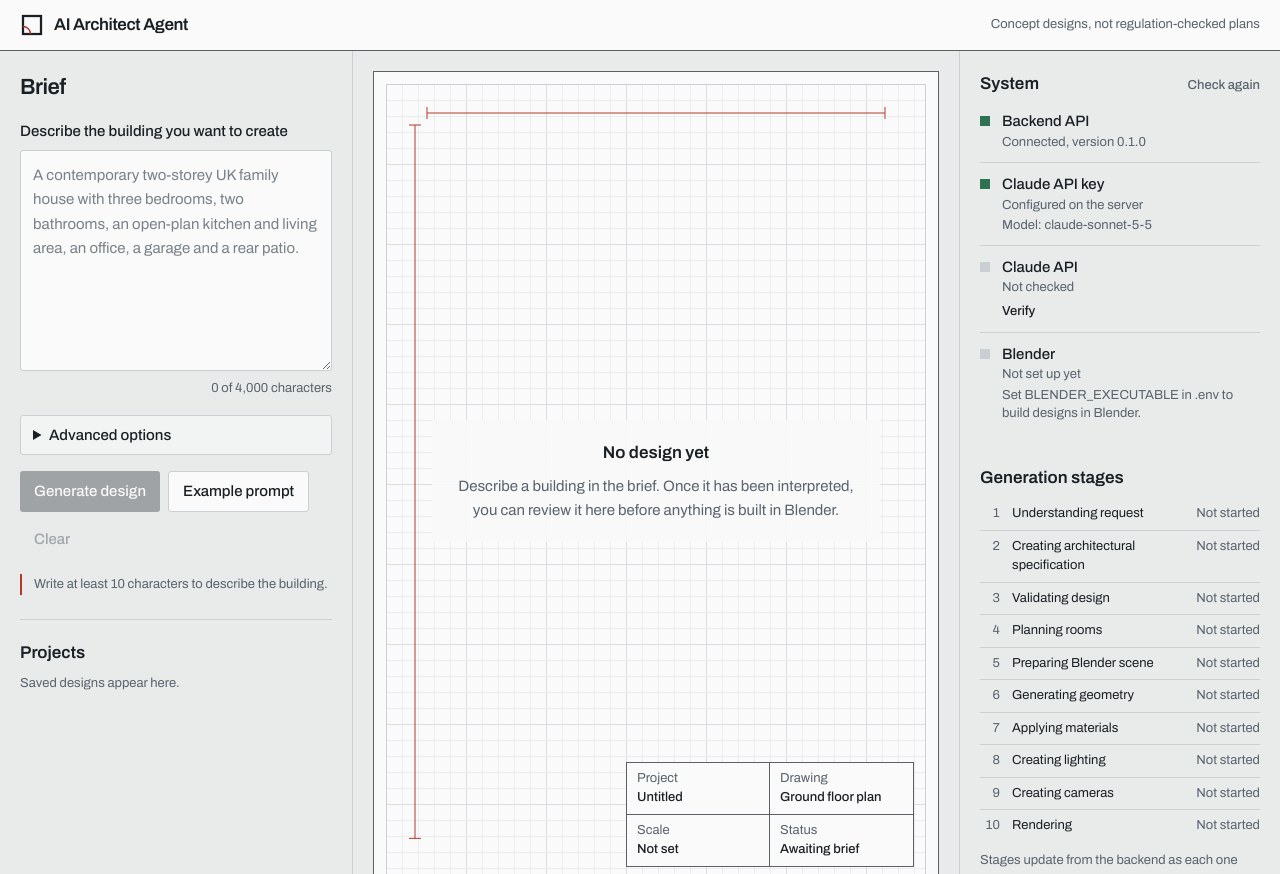
Test: App › verifies the Claude connection from the System panel
expect the text "Not checked" is shown: met, box 1002,278 -> 1078,298
expect the text "Model: claude-sonnet-5-5" is shown: met, box 1002,217 -> 1152,235
Click the button "Verify" at [1019, 312], box 1002,302 -> 1035,321
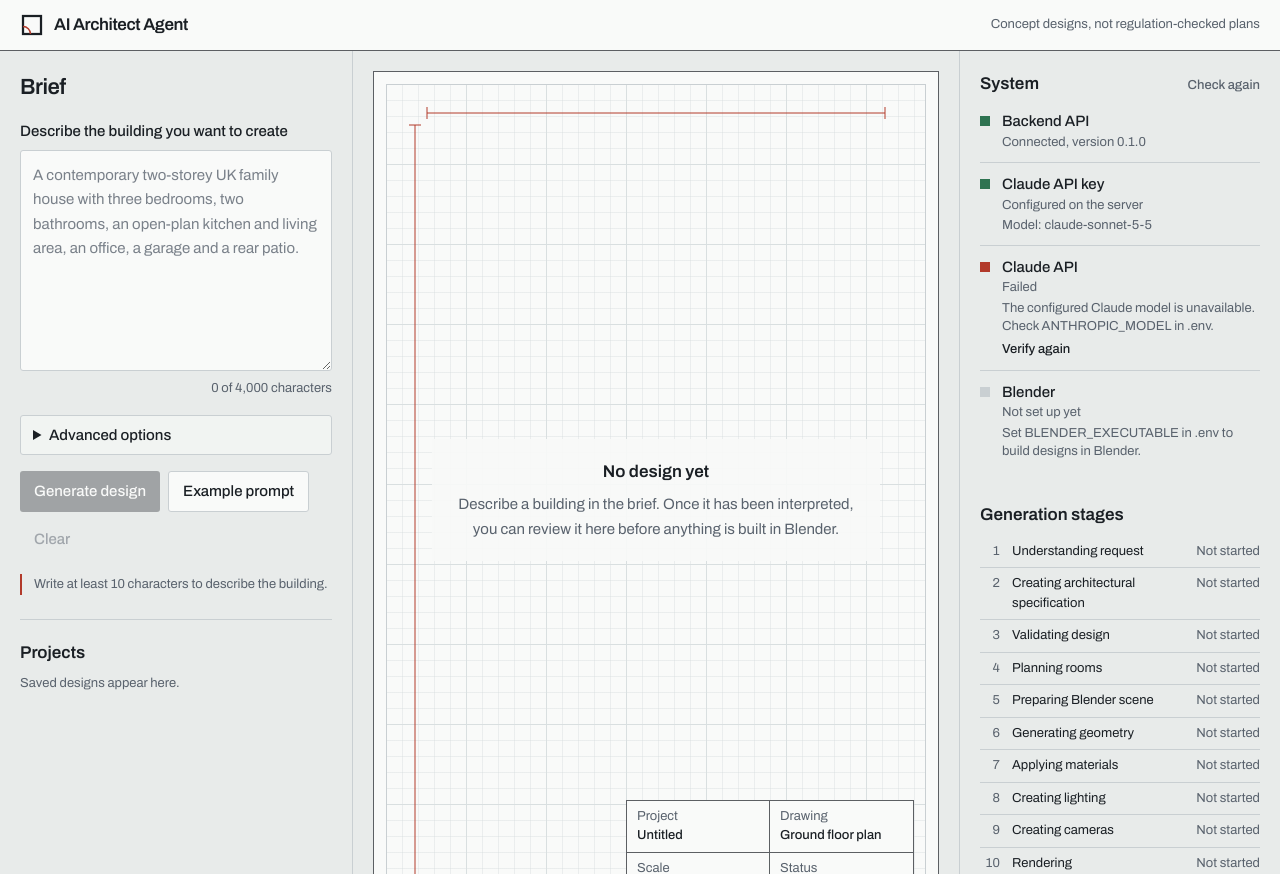
expect the text "Failed" is shown: met, box 1002,280 -> 1037,294
expect the text "configured Claude model is unavailable" is shown: met, box 1002,301 -> 1255,333
